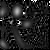node: (12, 5, 22, 18), (22, 21, 33, 29), (1, 6, 9, 17)
